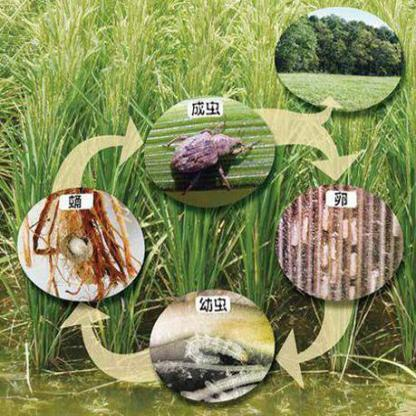rice-bug: (168, 124, 250, 196)
